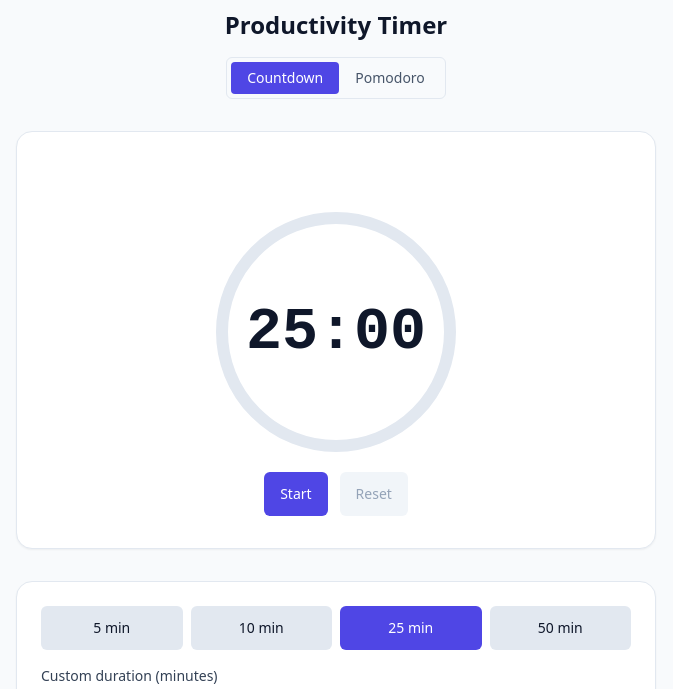
it: Countdown workflow › selects a preset, starts, pauses, resumes, resets
Click the button "10 min" at (261, 628), box [190,606,332,650]
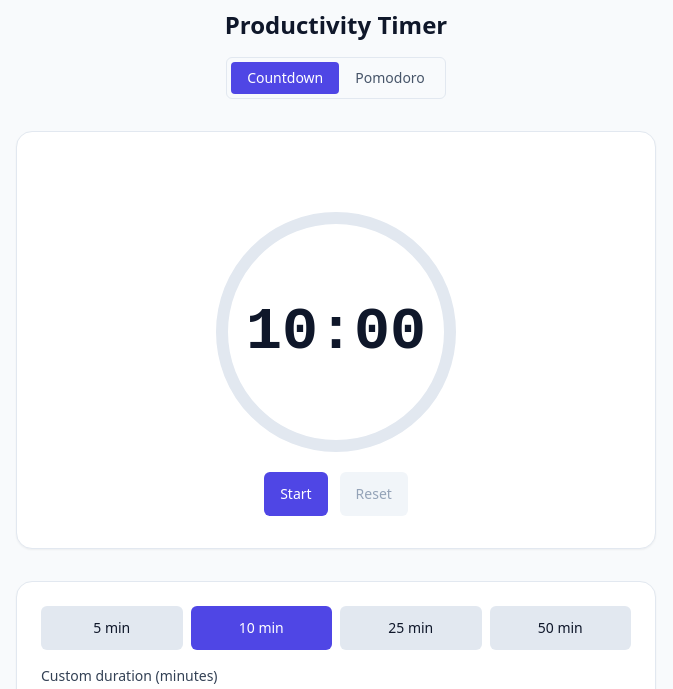
Check: the text "10:00" is shown, box [246,302,426,362]
Click the button "Start" at (296, 494), box [264,472,328,516]
Wait 250 ms
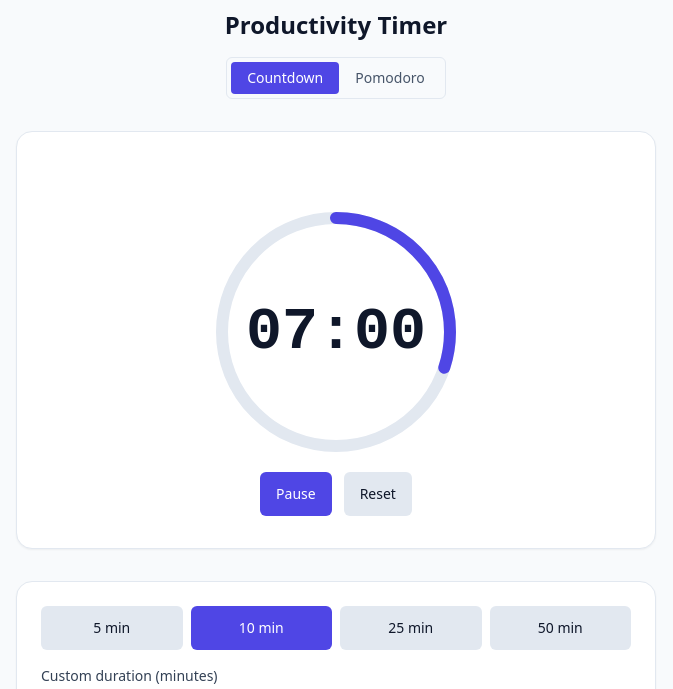
Check: the text "07:00" is shown, box [246,302,426,362]
Click the button "Pause" at (296, 494), box [260,472,332,516]
Wait 250 ms
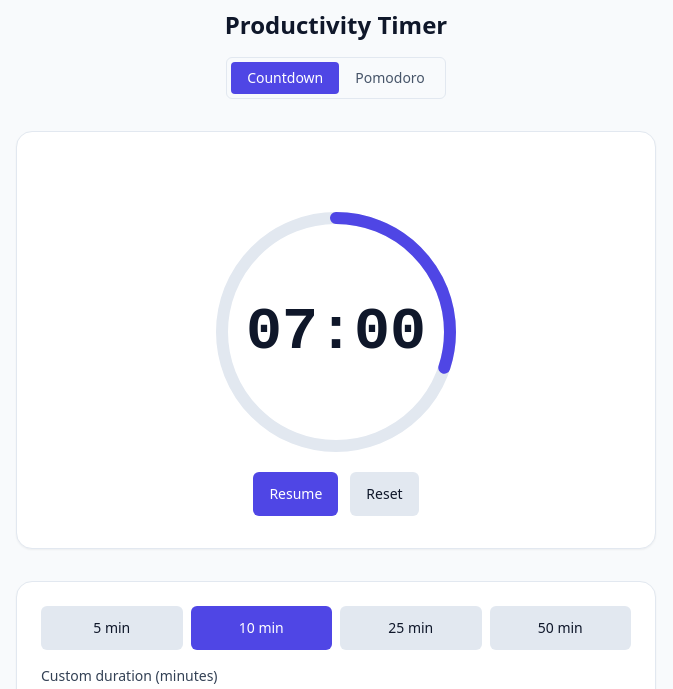
Check: the text "07:00" is shown, box [246,302,426,362]
Click the button "Resume" at (296, 494), box [253,472,338,516]
Wait 250 ms
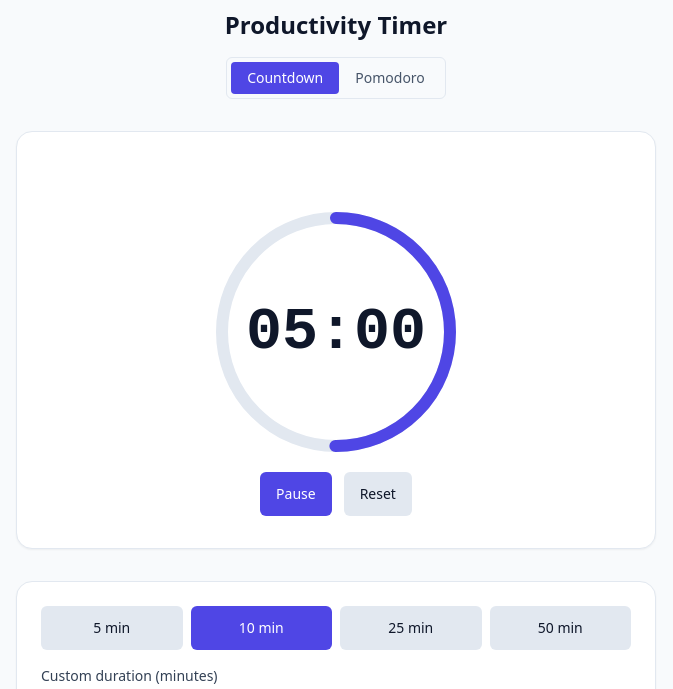
Check: the text "05:00" is shown, box [246,302,426,362]
Click the button "Reset" at (378, 494), box [344,472,412,516]
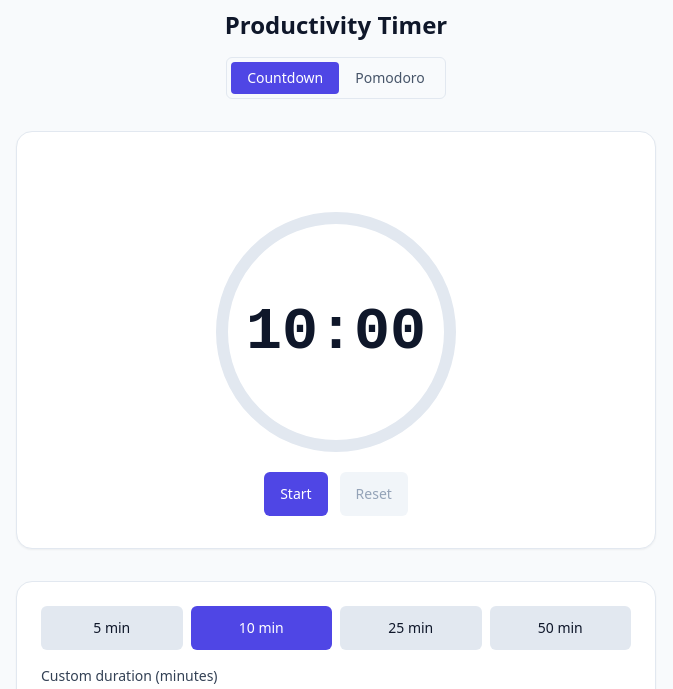
Check: the text "10:00" is shown, box [246,302,426,362]
